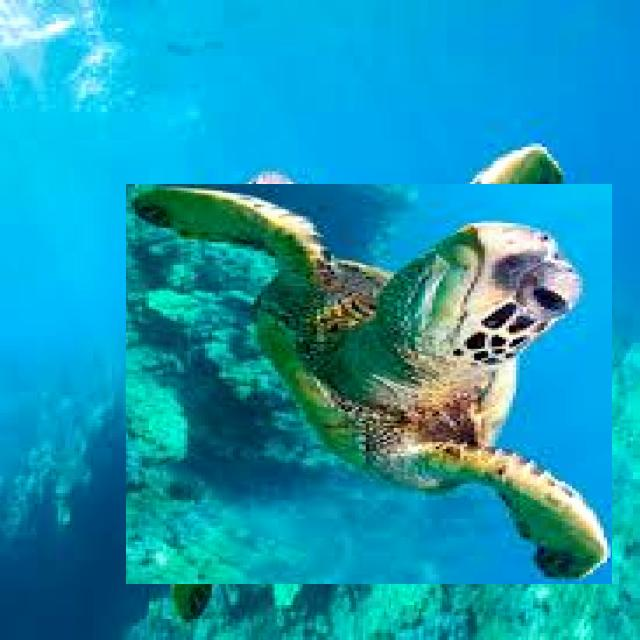Sea turtle: (147, 163, 590, 606)
